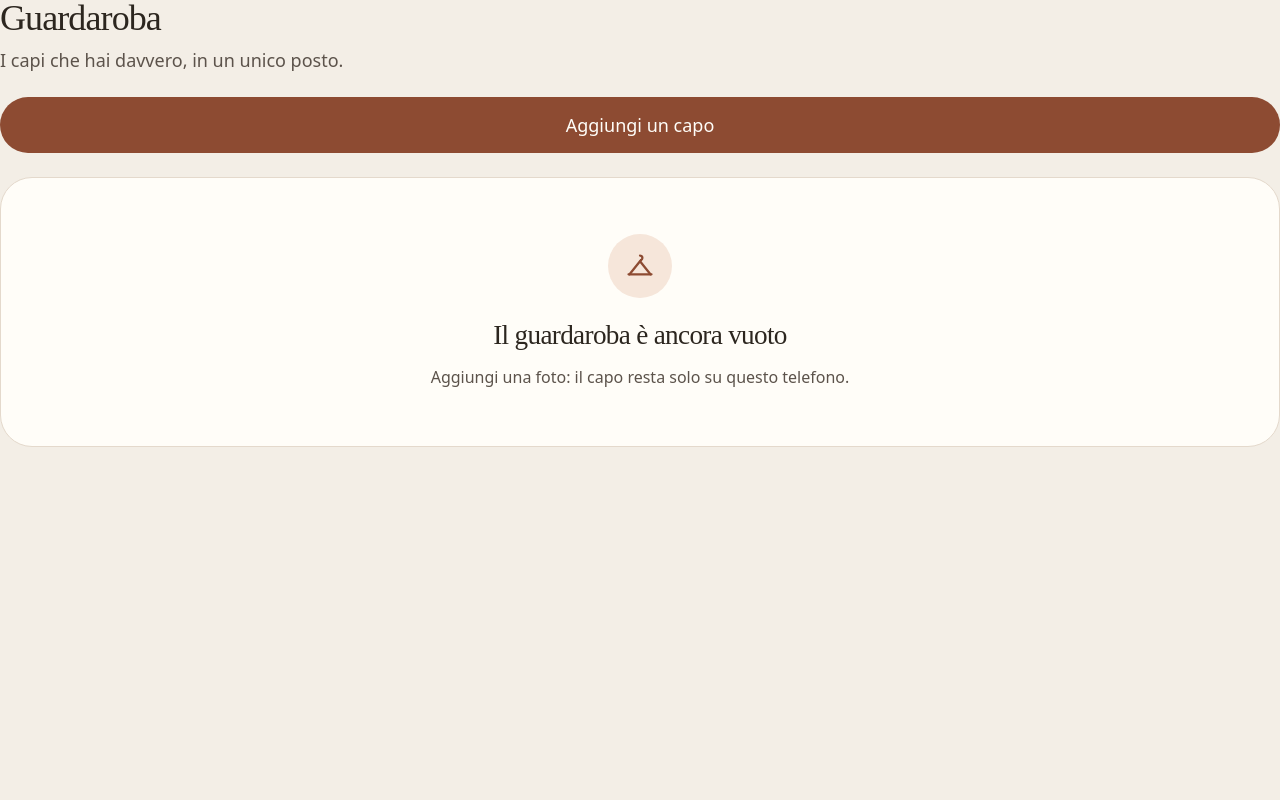
Test: guardaroba › non salva un capo se mancano foto o campi
The width and height of the screenshot is (1280, 800).
Later steps or results of the test are not shown.
Click the button "Aggiungi un capo" at (640, 125), box [0,97,1279,153]
(page scrolled)
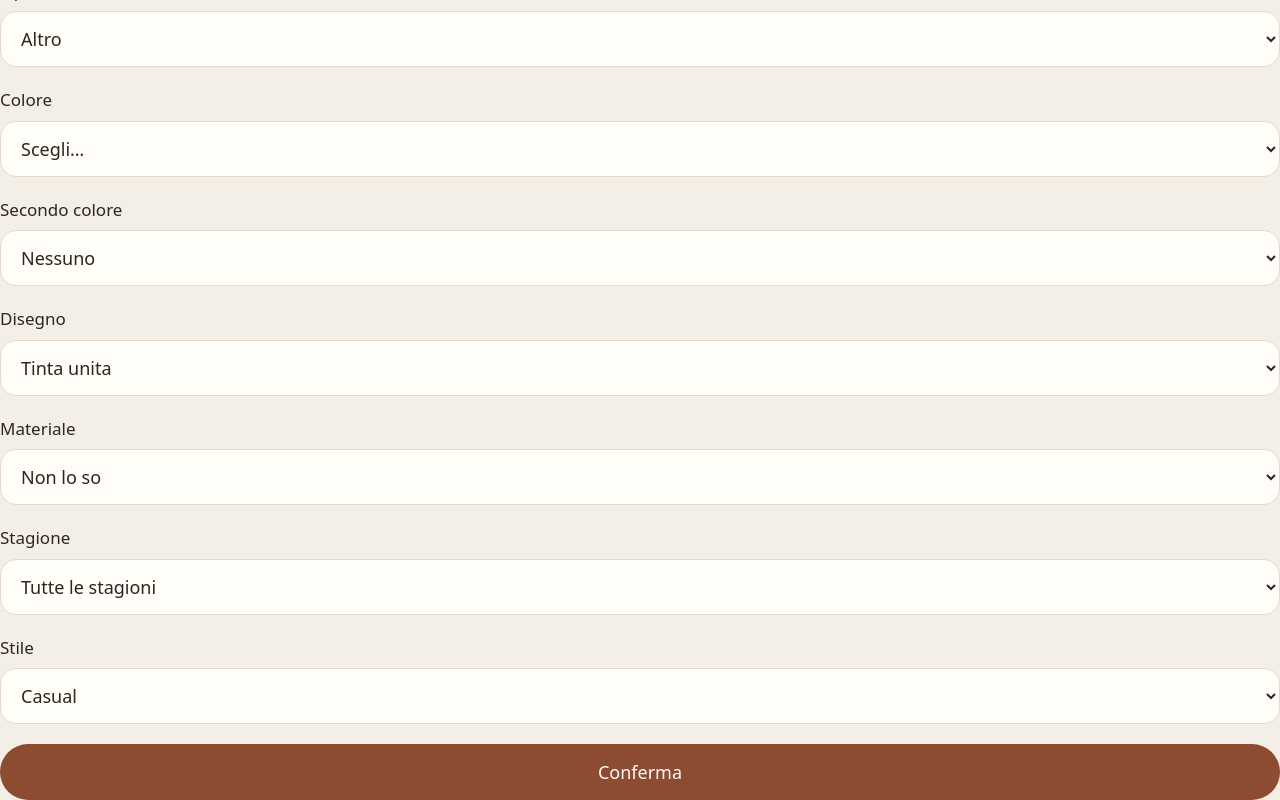
Now the dropdown labelled "Stagione" shows "Tutte le stagioni", box [0,559,1279,615]
Now the dropdown labelled "Stile" shows "Casual", box [0,668,1279,724]
Click the button "Conferma" at (640, 772), box [0,744,1279,799]
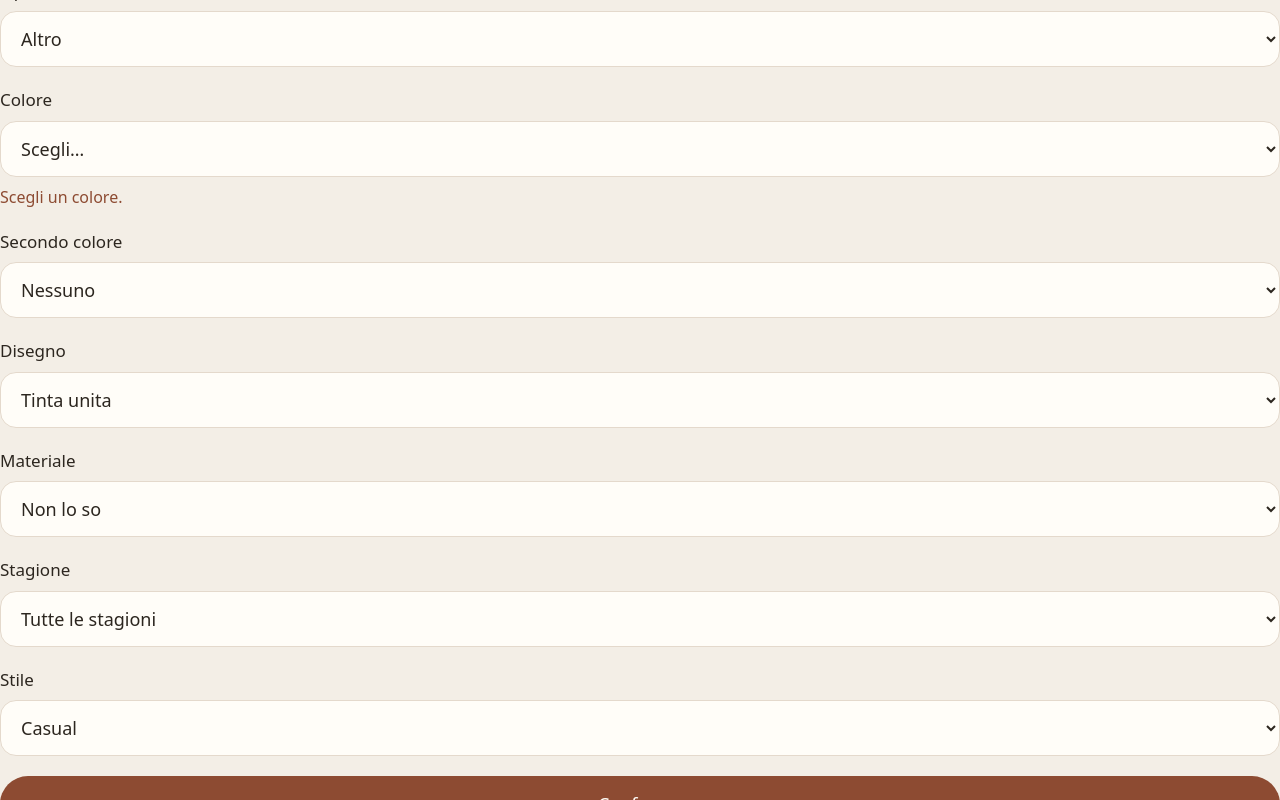
Now the text "Scegli un colore." is shown, box [0,186,122,208]
